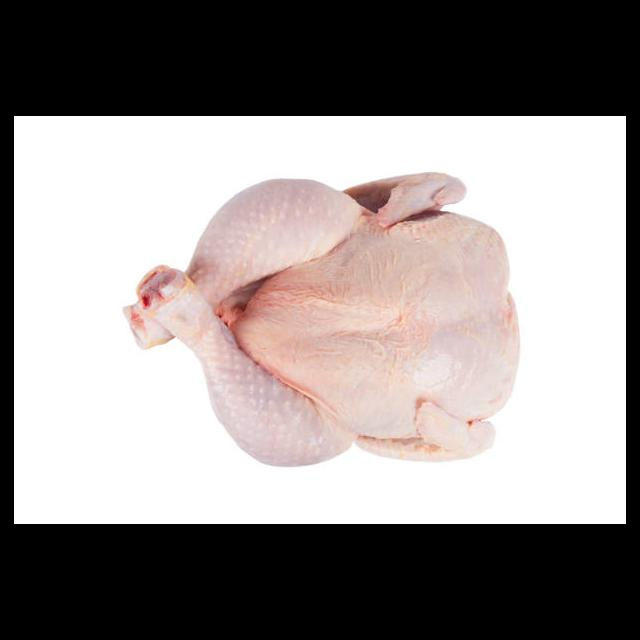chicken: (122, 170, 522, 469)
